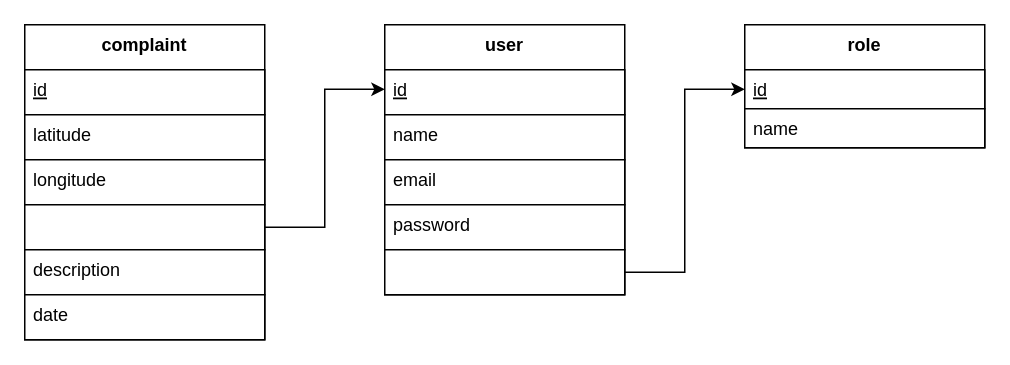
This 1010x365 diagram has some shape labels left out. The shapes that lost their labels are listed below. From the top down, each one's centre as x and y in pixels, then its label:
At (x=144, y=226): "userId".
At (x=504, y=271): "roleId".
